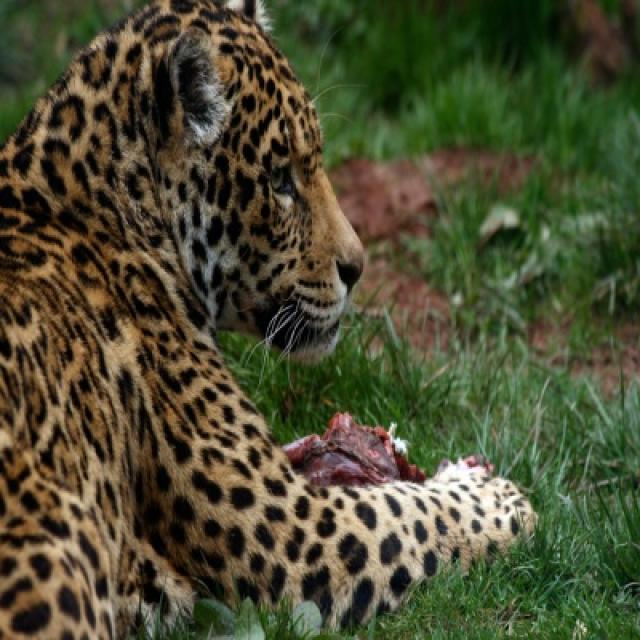Jaguar: (0, 0, 538, 638)
